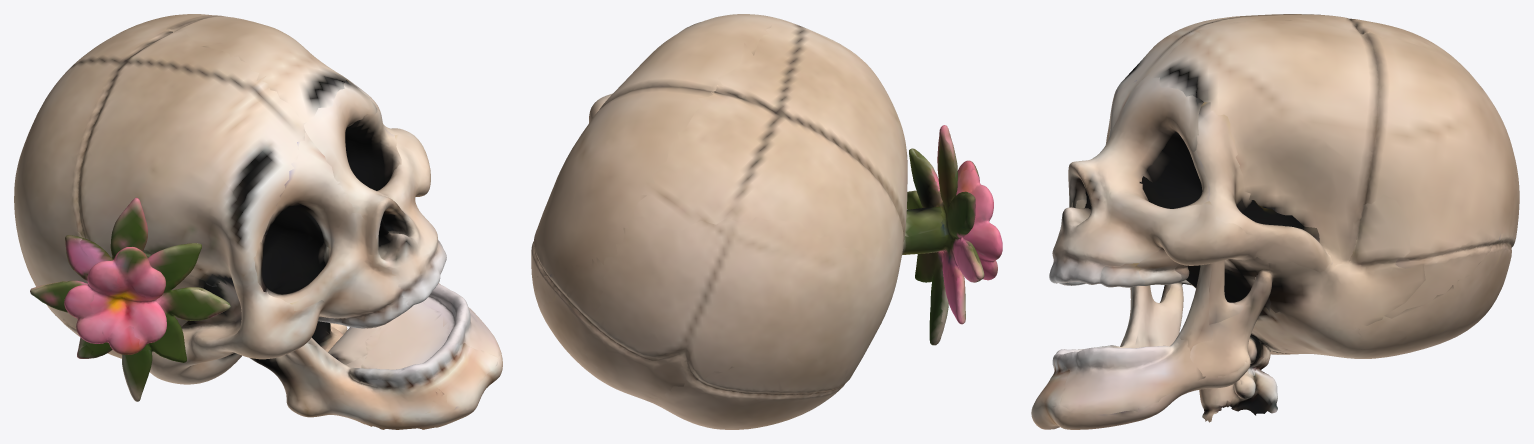
File: cabeza.obj
The picture shows the model from 3 angles, left to right: view 1: azimuth 30°, elevation 25°; view 2: azimuth 150°, elevation 25°; view 3: azimuth 270°, elevation 25°; orthographic projection. The views are drawn at different scales.
Parts seen in each view (by area): view 1: cabeza; view 2: cabeza; view 3: cabeza.
Part boxes in pixels (bbox=[...]): cabeza: bbox=[14, 14, 502, 429]; cabeza: bbox=[531, 14, 1002, 429]; cabeza: bbox=[1031, 14, 1519, 429].
Size of the model in its own units: 0.3152 by 0.2564 by 0.3186.
Materials: 1 (1 with a texture image).
